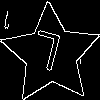L: (26, 29, 63, 81)
